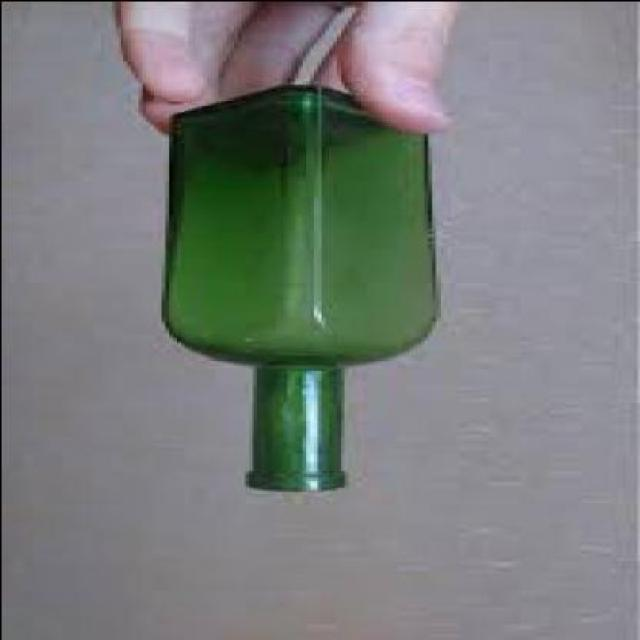GLASS: (164, 85, 442, 493)
